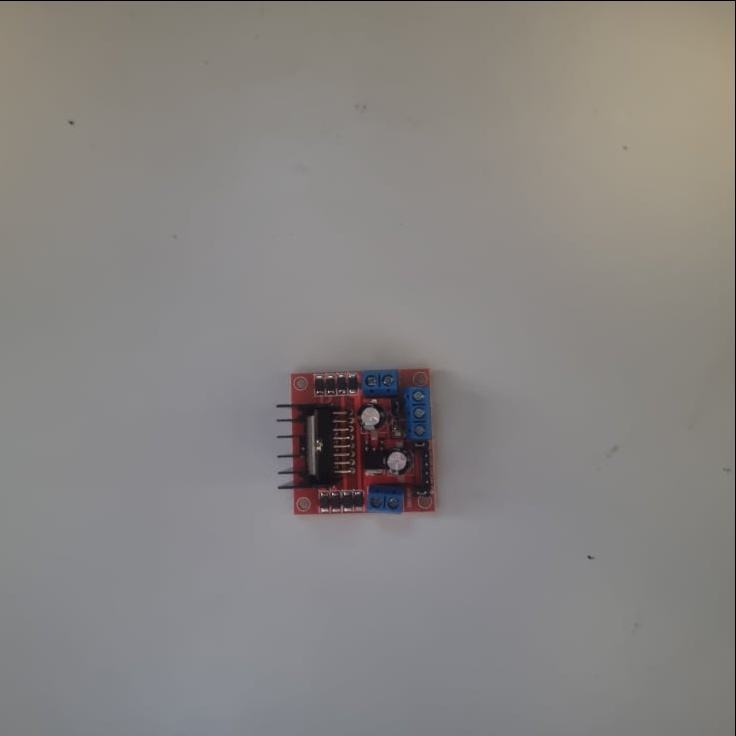MOTOR: (278, 362, 437, 516)
